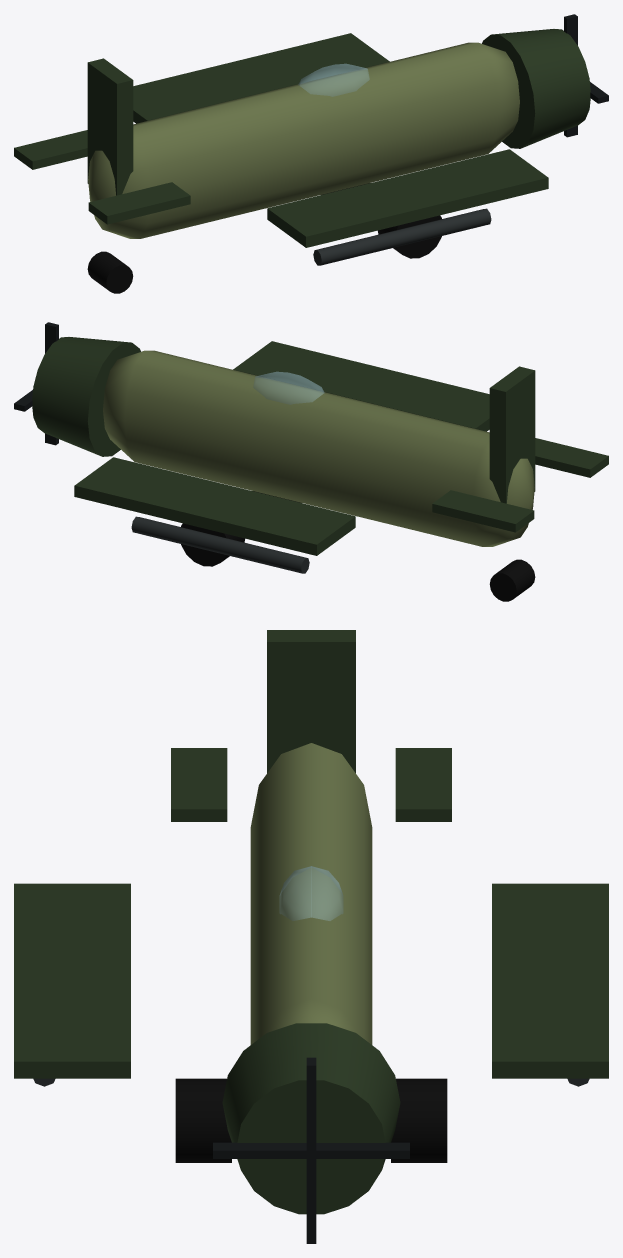
The model's file is a1-skyraider.glb.
3 renders of one model, top to bottom at view 1: azimuth 30°, elevation 25°; view 2: azimuth 150°, elevation 25°; view 3: azimuth 270°, elevation 25°, orthographic. The views are drawn at different scales.
Parts seen in each view (by area): view 1: fuselage, leftWing, rightWing, cowling, tailFin, leftElevator, rightElevator, canopy, tailWheel, rocketLeft1, leftMainWheel, rocketLeft2 (+3 smaller); view 2: fuselage, rightWing, leftWing, cowling, tailFin, rightElevator, leftElevator, canopy, tailWheel, rocketRight1, rightMainWheel, rocketRight3 (+3 smaller); view 3: fuselage, leftWing, rightWing, cowling, tailFin, leftElevator, rightElevator, leftMainWheel, rightMainWheel, propBladeB, canopy, propBladeA.
Boxes of the visible parts, <box> form: fuselage: <box>88,42,519,238</box>; leftWing: <box>267,149,548,247</box>; rightWing: <box>133,33,389,123</box>; cowling: <box>482,29,590,148</box>; tailFin: <box>87,58,133,195</box>; leftElevator: <box>88,182,190,224</box>; rightElevator: <box>14,130,87,169</box>; canopy: <box>298,63,369,96</box>; tailWheel: <box>87,251,133,293</box>; rocketLeft1: <box>313,236,377,265</box>; leftMainWheel: <box>378,215,441,258</box>; rocketLeft2: <box>354,227,415,253</box>; fuselage: <box>103,350,534,546</box>; rightWing: <box>74,457,355,555</box>; leftWing: <box>233,341,489,431</box>; cowling: <box>32,337,140,456</box>; tailFin: <box>489,366,535,503</box>; rightElevator: <box>432,490,534,532</box>; leftElevator: <box>535,438,608,477</box>; canopy: <box>253,371,324,404</box>; tailWheel: <box>489,559,535,601</box>; rocketRight1: <box>244,544,309,573</box>; rightMainWheel: <box>181,523,244,566</box>; rocketRight3: <box>169,526,229,554</box>; fuselage: <box>250,743,372,1044</box>; leftWing: <box>14,883,130,1078</box>; rightWing: <box>492,883,608,1078</box>; cowling: <box>222,1023,400,1214</box>; tailFin: <box>267,630,355,772</box>; leftElevator: <box>171,748,227,821</box>; rightElevator: <box>395,748,451,821</box>; leftMainWheel: <box>175,1078,231,1162</box>; rightMainWheel: <box>391,1078,447,1162</box>; propBladeB: <box>213,1142,409,1158</box>; canopy: <box>279,866,343,920</box>; propBladeA: <box>306,1057,316,1243</box>.
Bounding box in the file's own units: 3.83 × 1.55 × 2.54.
